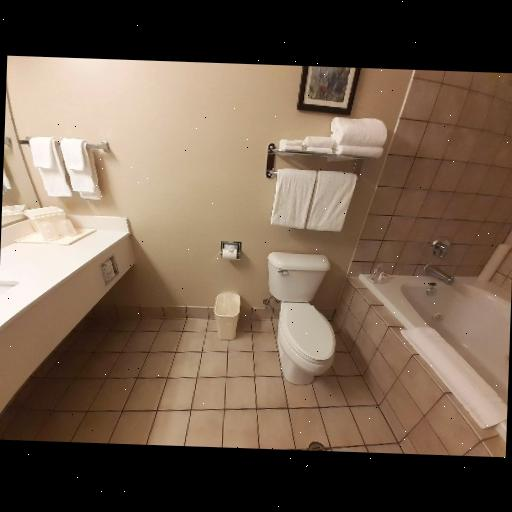clean_bathtub: (328, 240, 510, 457)
clean_floor: (0, 310, 427, 454)
clean_sink: (0, 203, 140, 412)
clean_toilet: (269, 249, 344, 396)
folded_towel: (276, 112, 390, 158), (271, 170, 356, 231), (28, 138, 106, 204)
